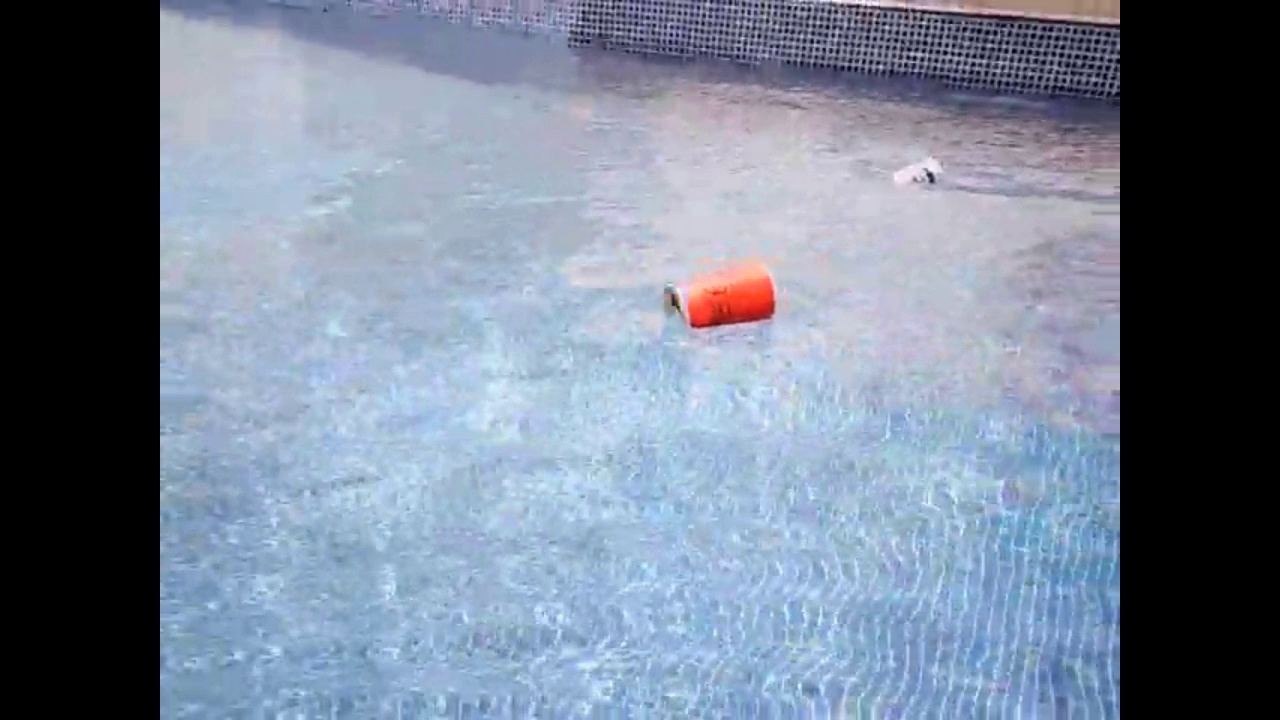debris: (650, 248, 783, 343), (886, 151, 950, 199)
